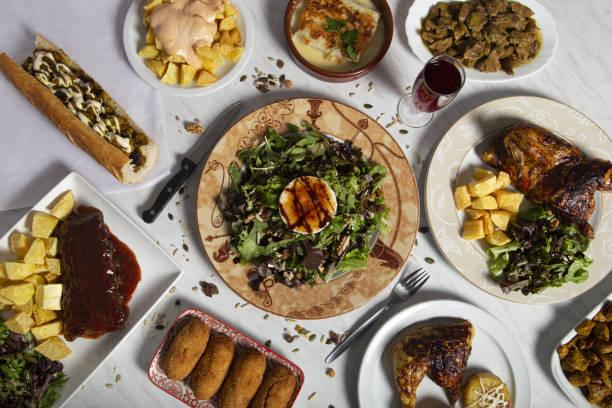Braised Crucian Carp: (195, 96, 414, 318), (1, 172, 183, 406), (424, 96, 609, 302), (355, 298, 531, 407), (149, 306, 303, 406), (124, 0, 252, 97), (405, 0, 556, 82), (283, 0, 392, 81)
